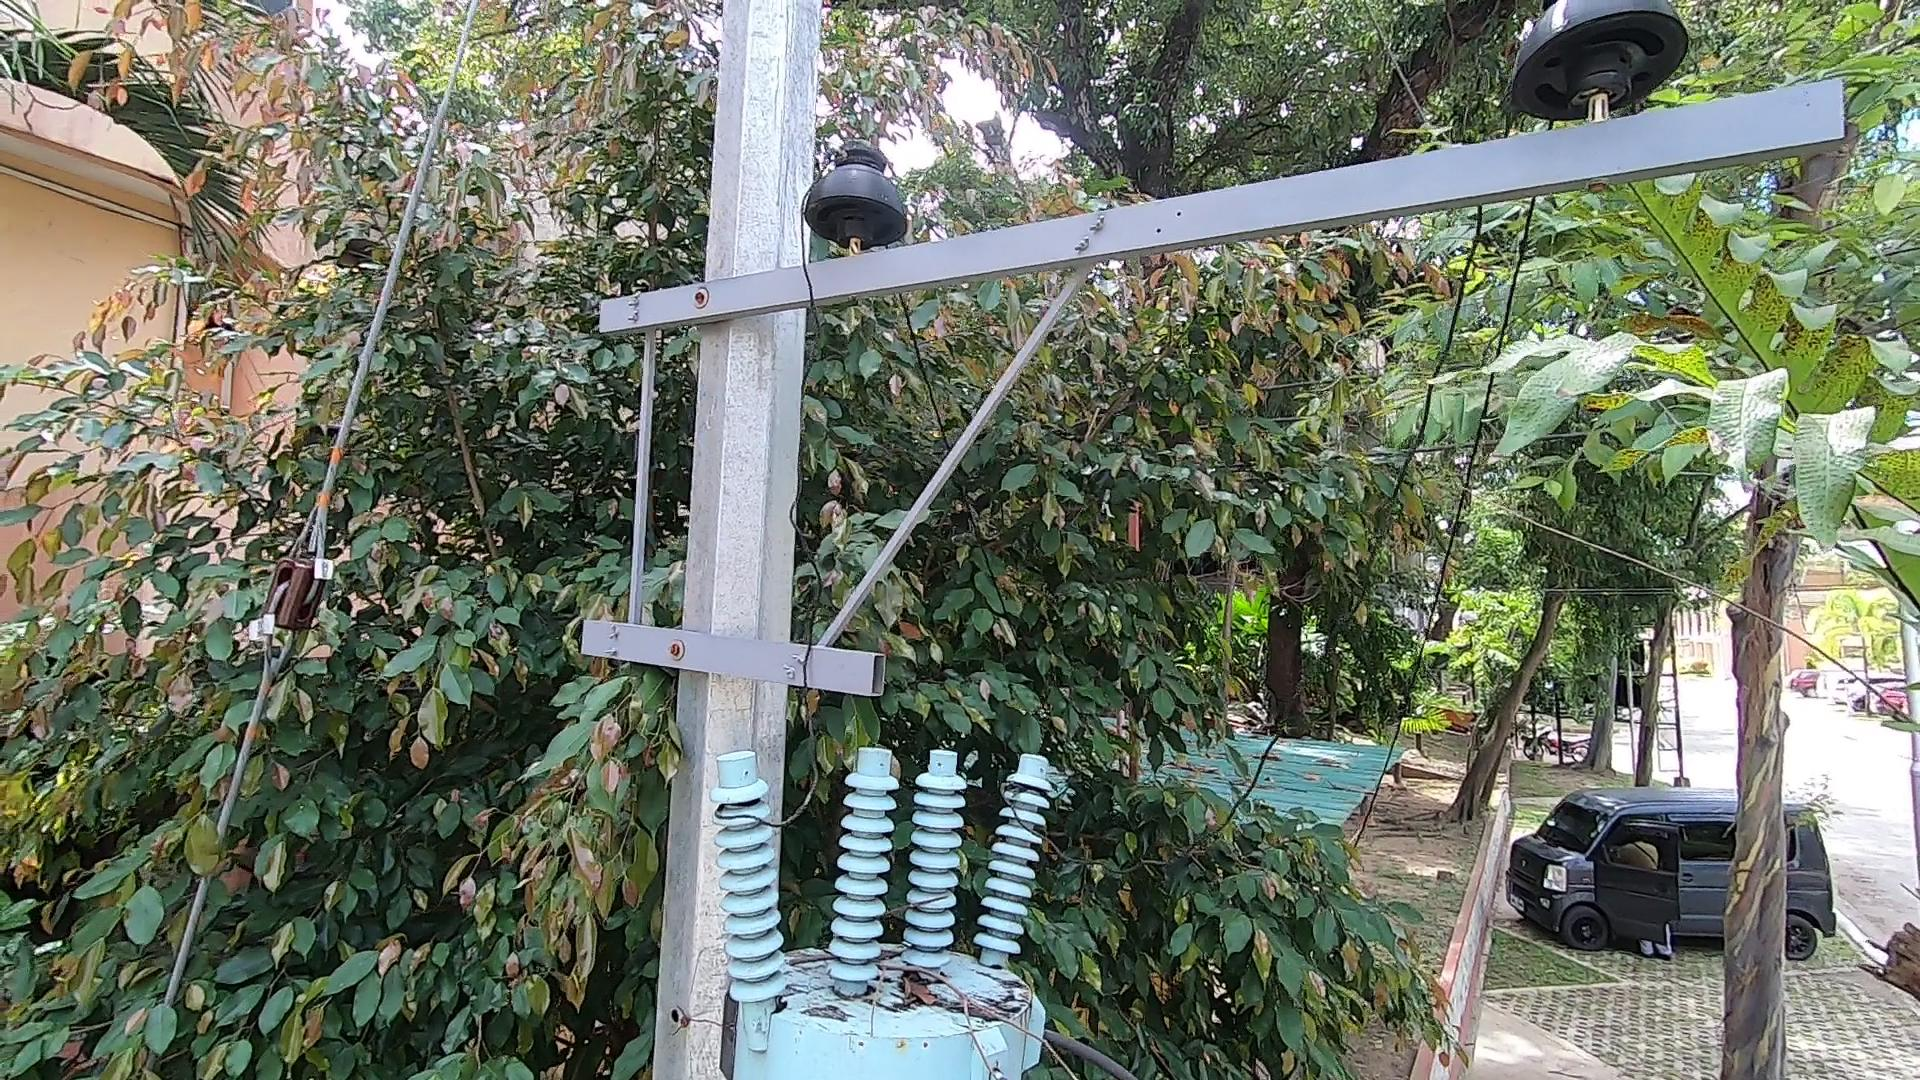leaf: (890, 953, 951, 1015)
tree branch: (786, 891, 1102, 1080)
